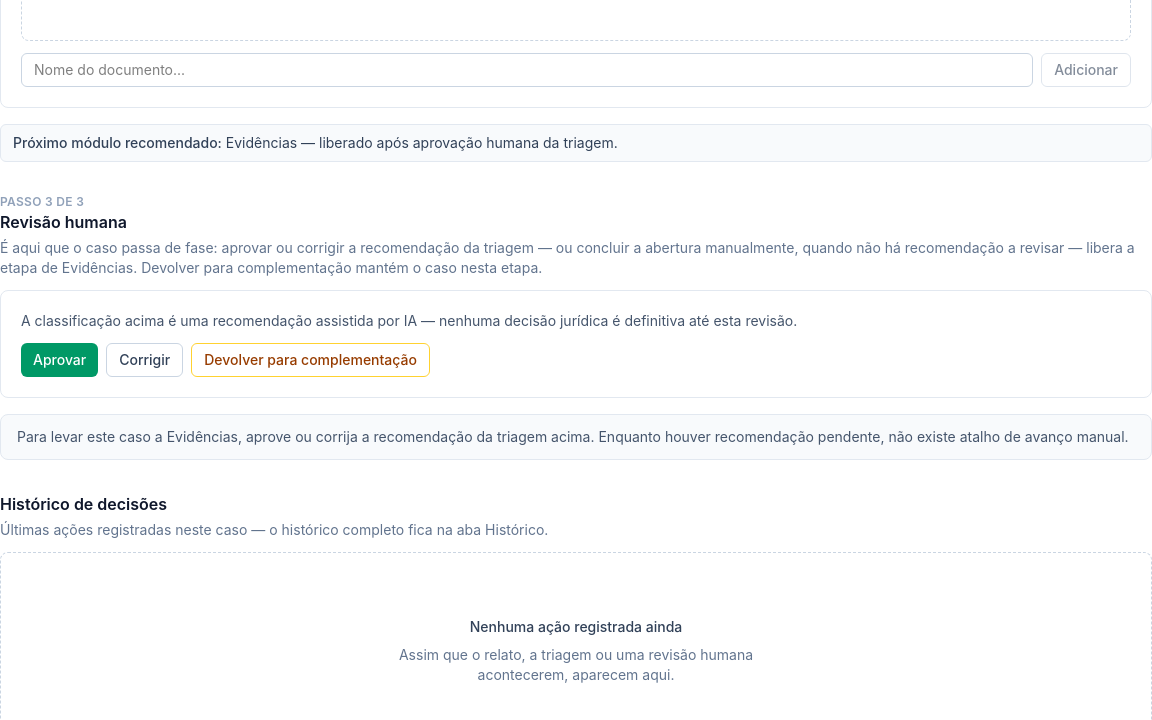
CaseIntakePage — revisão humana › mostra erro da API sem fingir sucesso quando a aprovação falha
This screenshot has width=1152, height=720.
(page scrolled)
Click the button "Aprovar": (60, 360) x1=21 y1=343 x2=98 y2=377
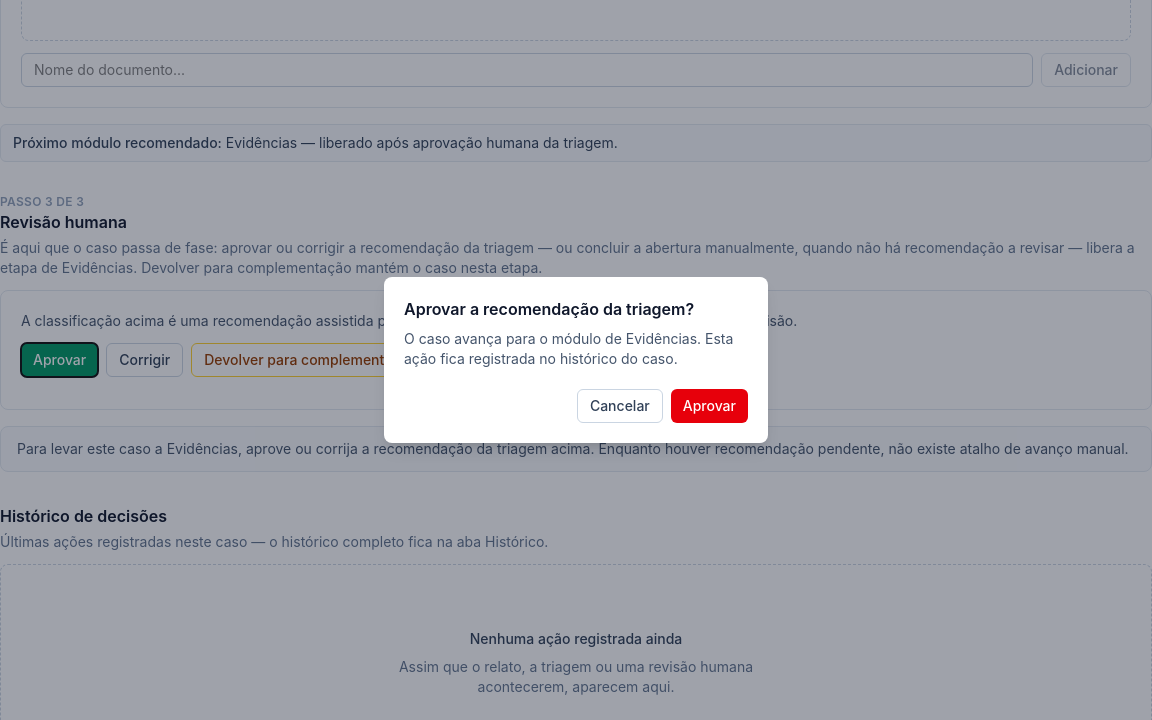
Click the button "Aprovar": (709, 406) x1=671 y1=389 x2=748 y2=423
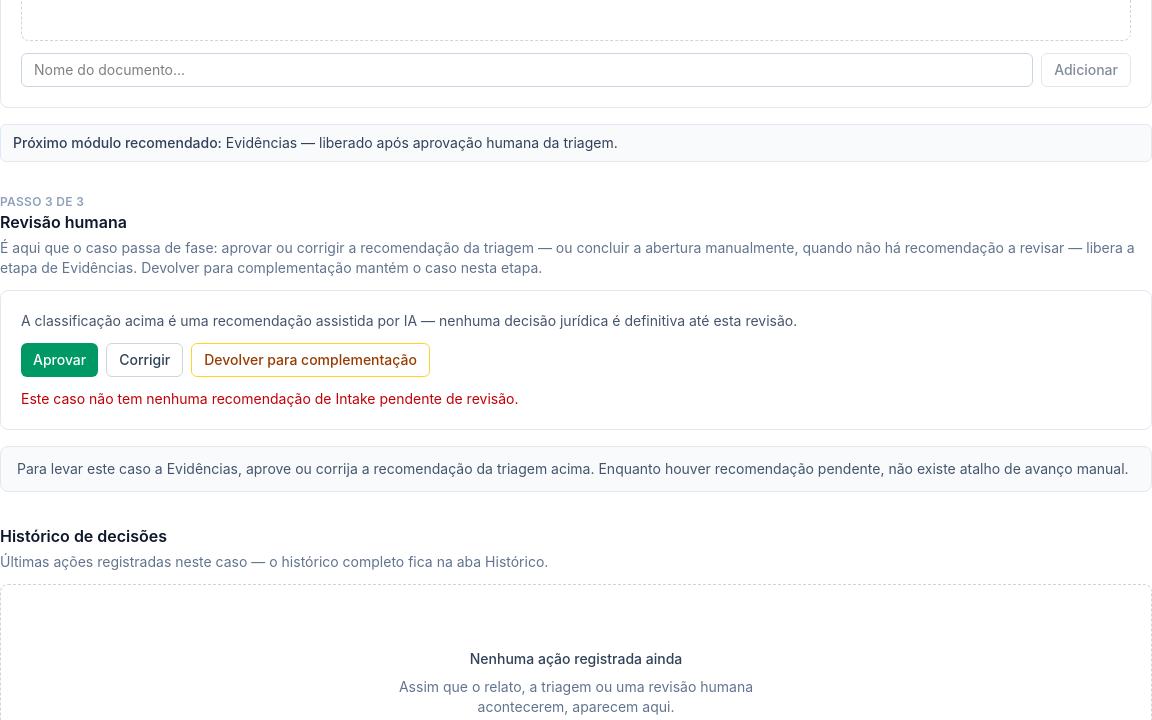
Check: the text "Este caso não tem nenhuma recomendação de Intake pendente de revisão." is shown, box x1=21 y1=390 x2=518 y2=407
